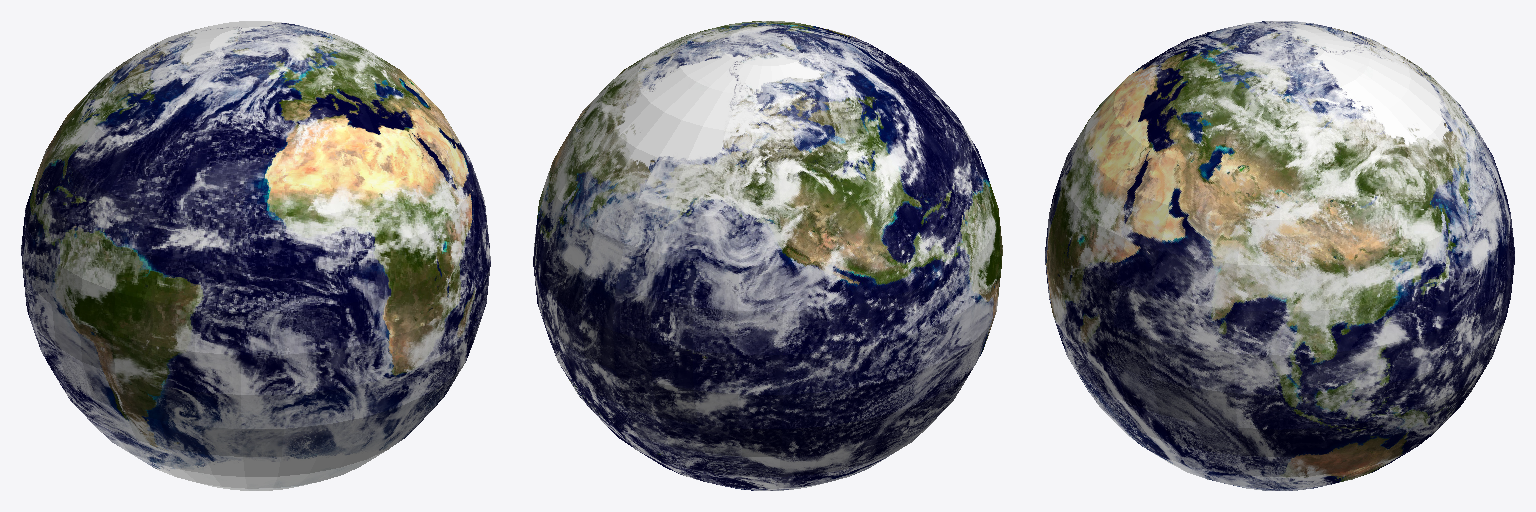
The picture shows the model from 3 angles: view 1: azimuth 30°, elevation 25°; view 2: azimuth 150°, elevation 25°; view 3: azimuth 270°, elevation 25°; orthographic projection.
Parts seen in each view (by area): view 1: Sphere; view 2: Sphere; view 3: Sphere.
Part boxes in pixels (left/top/right/bottom): Sphere: left=21, top=21, right=490, bottom=490; Sphere: left=533, top=21, right=1002, bottom=490; Sphere: left=1045, top=21, right=1514, bottom=490.
Size of the model in its own units: 2 by 2 by 2.
1 materials, 1 textured.